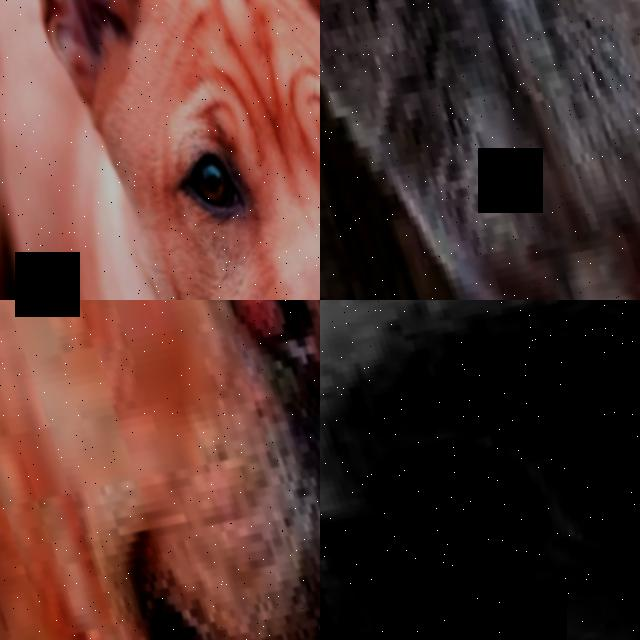dog: (0, 300, 320, 640), (320, 300, 640, 640), (0, 0, 320, 300)
wolf: (320, 0, 640, 300)
